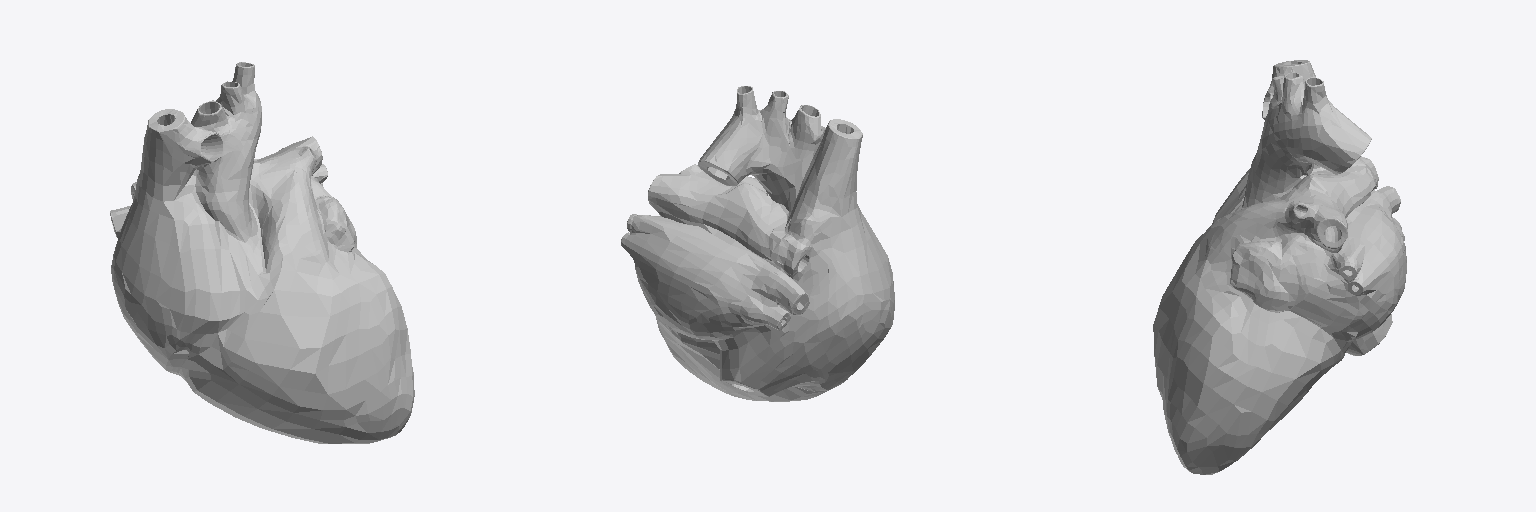
File: heart2.obj
3 views of the same model, side by side, from view 1: azimuth 30°, elevation 25°; view 2: azimuth 150°, elevation 25°; view 3: azimuth 270°, elevation 25° (orthographic).
Bounding box in the file's own units: 25.58 × 35.66 × 22.97.